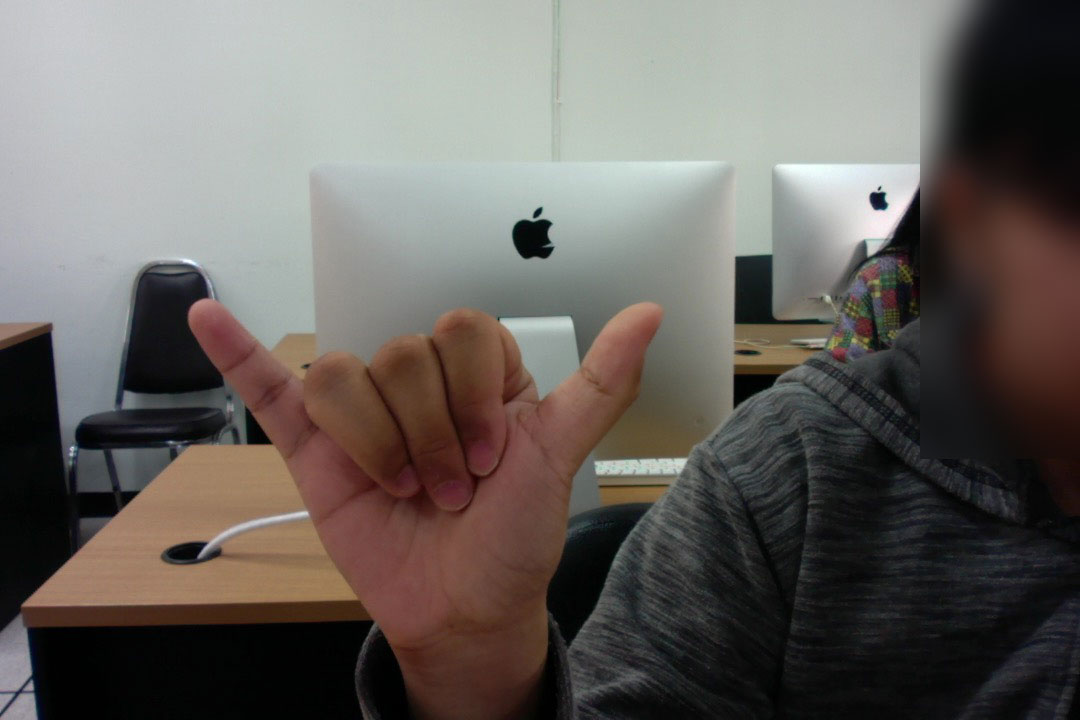yor: (178, 289, 673, 651)
